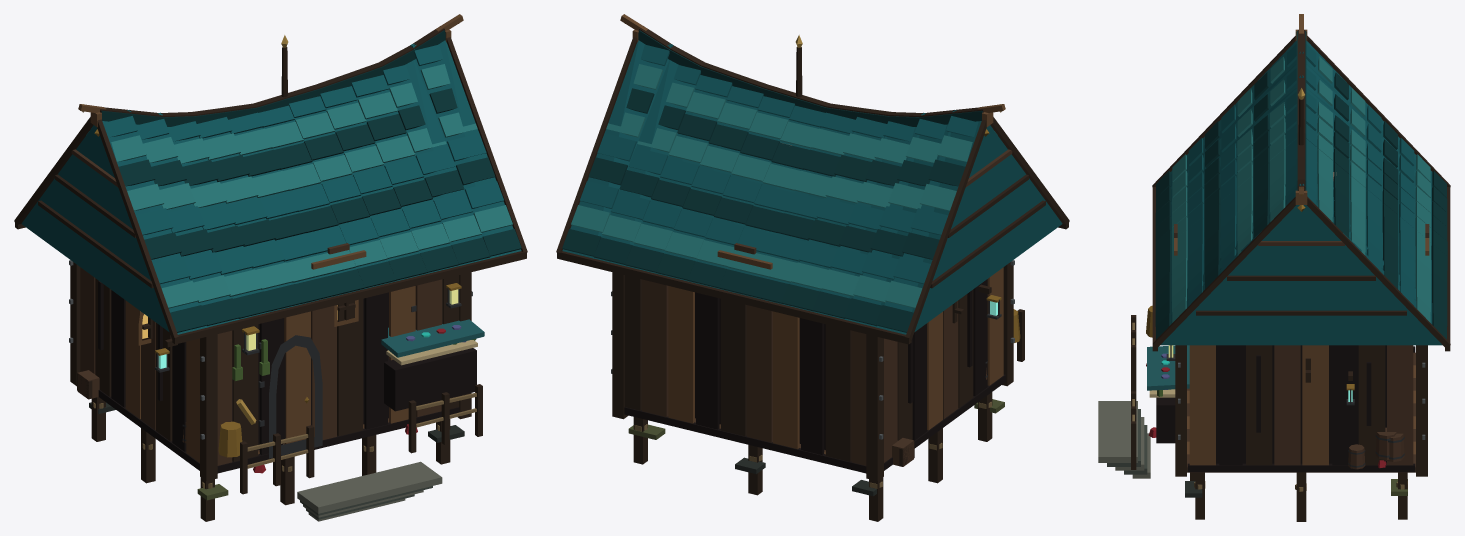
Rendered from fenbridge_moonwort_apothecary.glb.
3 views of the same model, side by side, from view 1: azimuth 30°, elevation 25°; view 2: azimuth 150°, elevation 25°; view 3: azimuth 270°, elevation 25° (orthographic). The views are drawn at different scales.
Visible parts, largest first — view 1: FenbridgeMoonwortApothecary_FenbridgeOpaque; view 2: FenbridgeMoonwortApothecary_FenbridgeOpaque; view 3: FenbridgeMoonwortApothecary_FenbridgeOpaque.
Boxes of the visible parts, box(x1,y1,x2,y2) form: FenbridgeMoonwortApothecary_FenbridgeOpaque: box(14, 14, 527, 521); FenbridgeMoonwortApothecary_FenbridgeOpaque: box(556, 14, 1069, 521); FenbridgeMoonwortApothecary_FenbridgeOpaque: box(1098, 14, 1450, 521).
Size of the model in its own units: 7 by 7.2 by 6.
